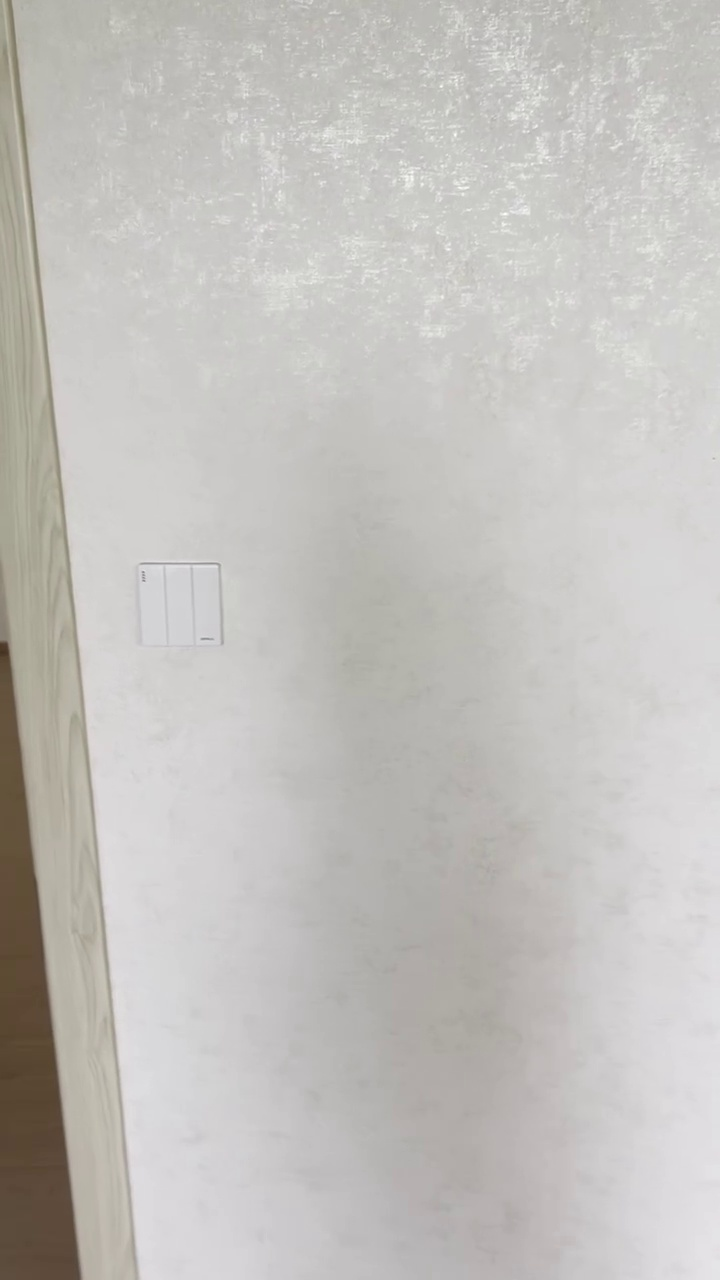button: (134, 556, 231, 653)
